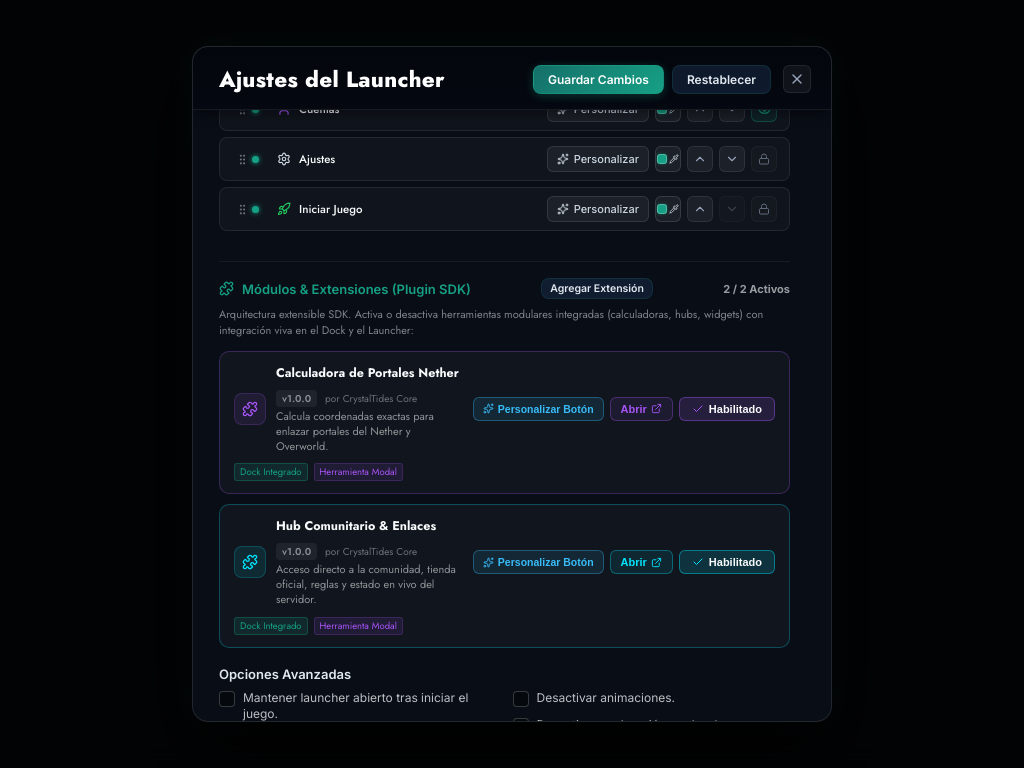
Scenario: Plugin & Module SDK in SettingsModal › permite alternar (activar/desactivar) módulos reactivamente en la interfaz
(page scrolled)
Note: Hacer clic para conmutar
Click the button "Habilitado" below "Calculadora de Portales Nether" at x=727, y=409, box x1=679 y1=397 x2=775 y2=421
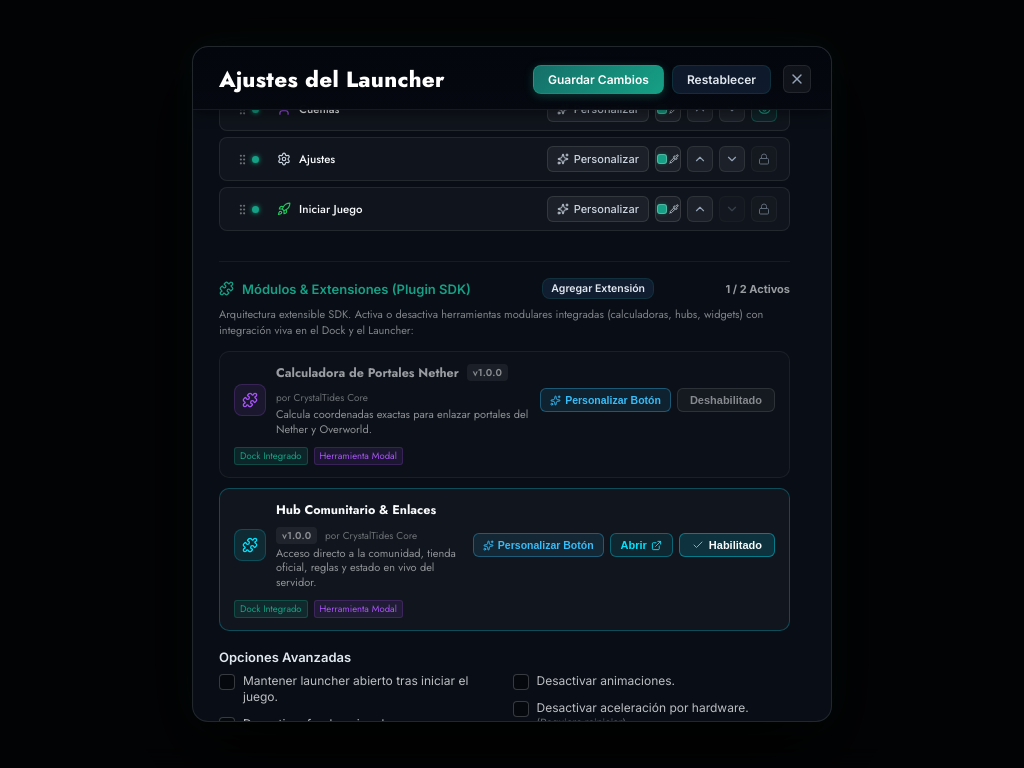
Check: the text "Habilitado" is gone
Note: Conmutar nuevamente
Click the button "Deshabilitado" at x=726, y=400, box x1=677 y1=388 x2=775 y2=412
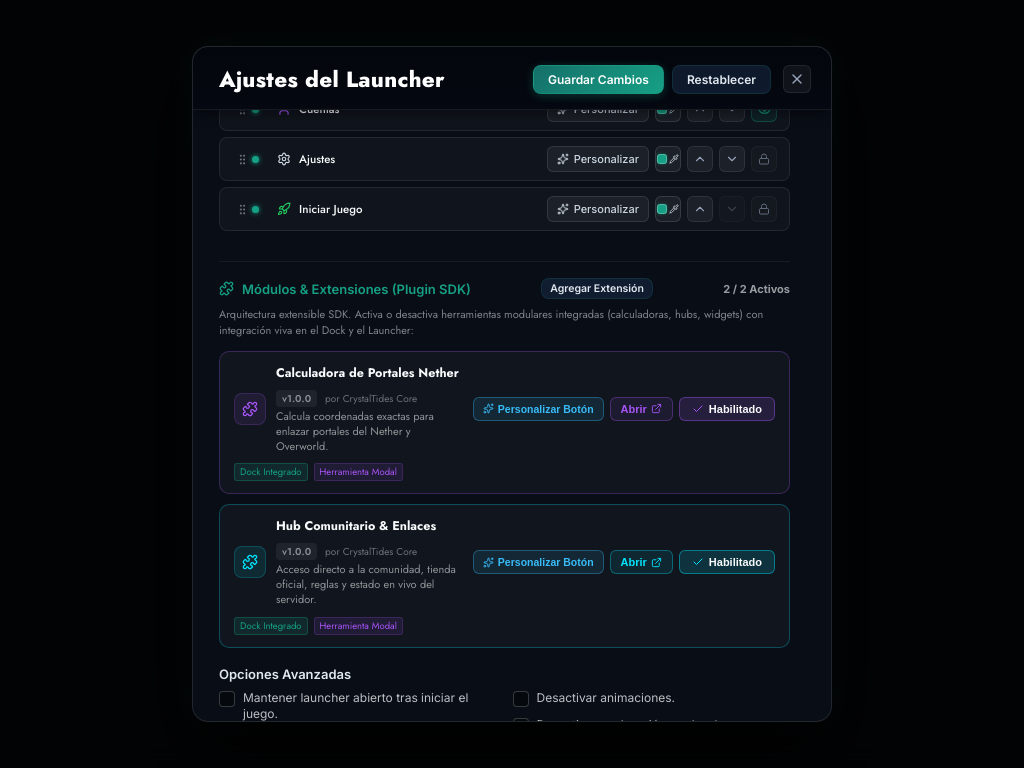
Check: the button "Habilitado" below "Calculadora de Portales Nether" is shown, box x1=679 y1=397 x2=775 y2=421
